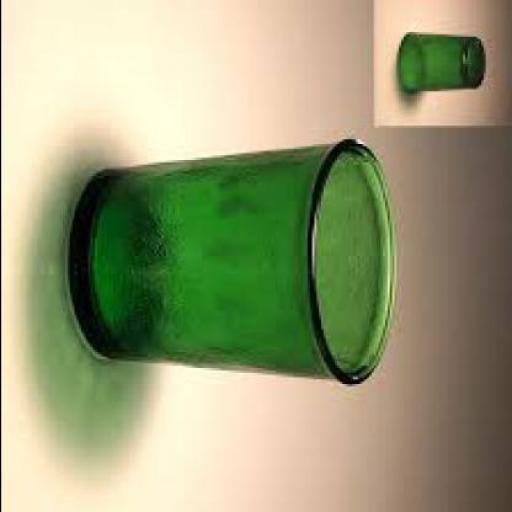glass: (66, 135, 398, 384), (398, 30, 487, 91)
